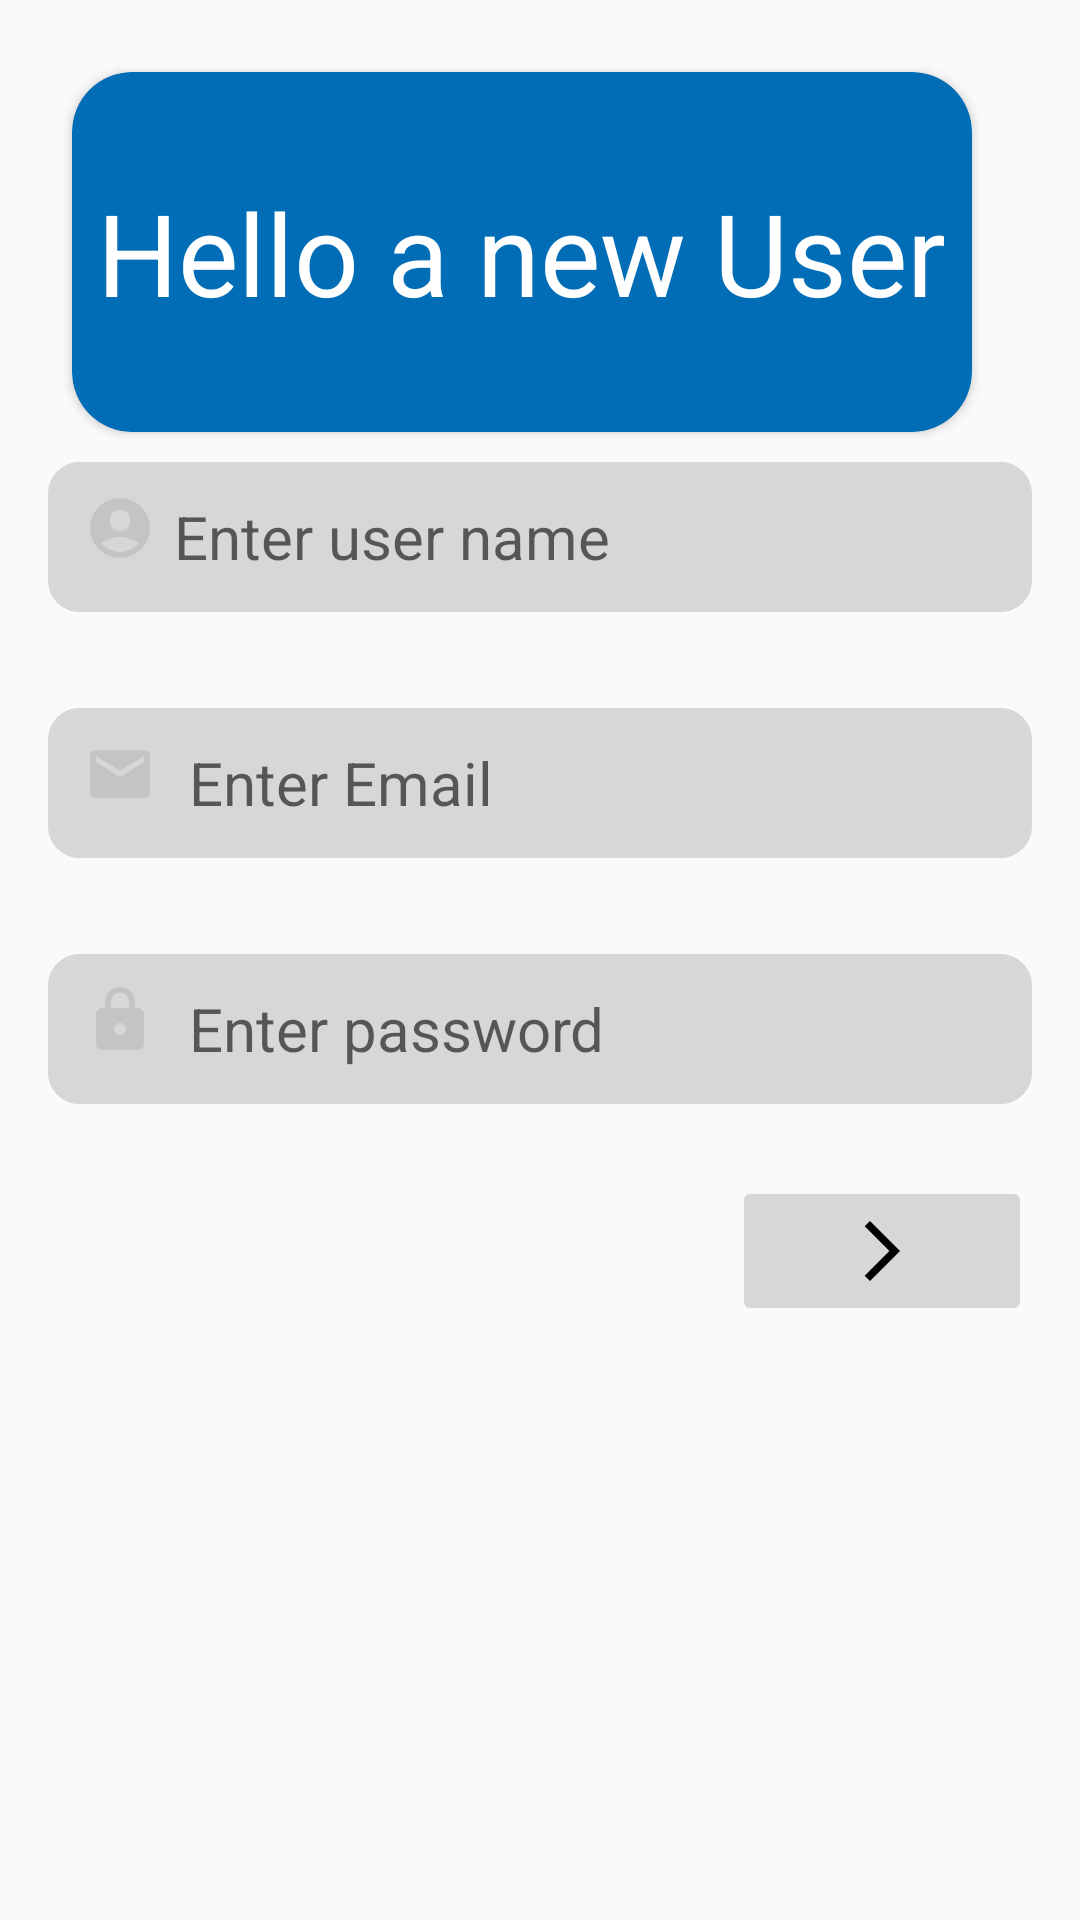

Named icons in this screenshot (1080*1920) and their centers, (x,y):
next: (882,1251)
